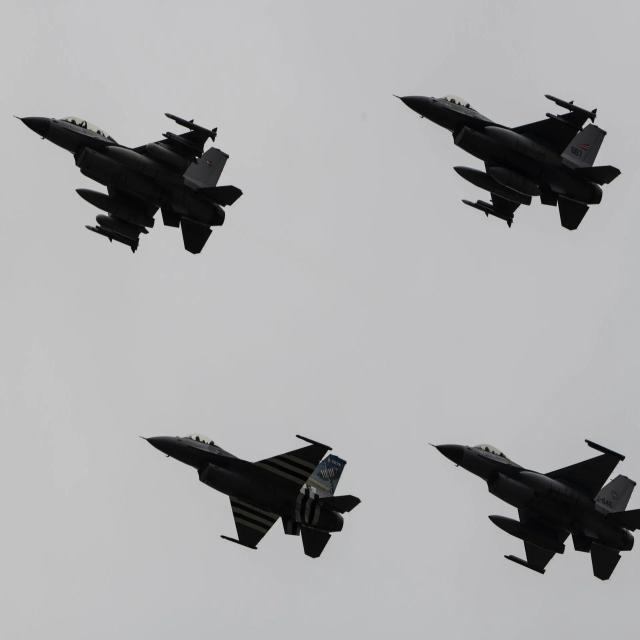MIL_Plane: (12, 113, 245, 256), (392, 94, 623, 232), (427, 438, 640, 582), (138, 433, 364, 560)
